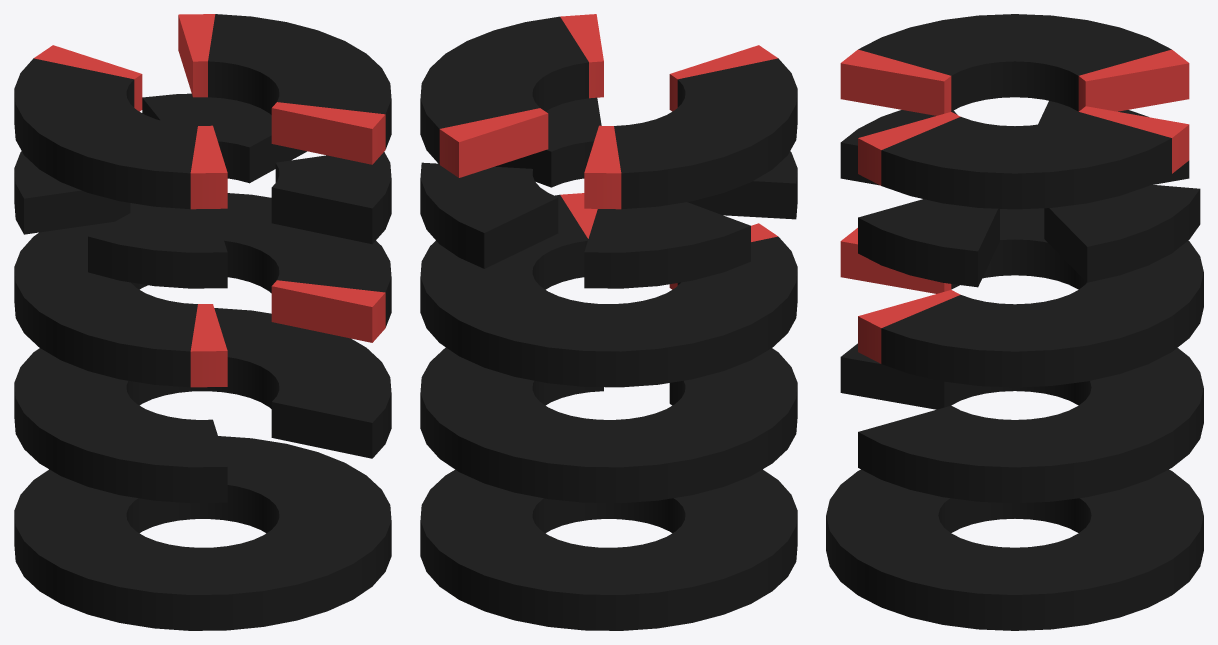
3 views of the same model, side by side, from view 1: azimuth 30°, elevation 25°; view 2: azimuth 150°, elevation 25°; view 3: azimuth 270°, elevation 25° (orthographic).
Visible parts, largest first — view 1: Circle, Circle.004, Circle.001, Circle.002, Circle.003; view 2: Circle, Circle.004, Circle.002, Circle.001, Circle.003; view 3: Circle.004, Circle, Circle.001, Circle.002, Circle.003.
Part boxes in pixels (bbox=[...]): Circle: bbox=[14, 436, 391, 630]; Circle.004: bbox=[14, 14, 391, 209]; Circle.001: bbox=[14, 308, 391, 503]; Circle.002: bbox=[14, 193, 391, 387]; Circle.003: bbox=[14, 93, 391, 288]; Circle: bbox=[420, 469, 797, 630]; Circle.004: bbox=[420, 14, 797, 209]; Circle.002: bbox=[420, 193, 797, 387]; Circle.001: bbox=[420, 347, 797, 503]; Circle.003: bbox=[420, 97, 797, 288]; Circle.004: bbox=[840, 14, 1189, 209]; Circle: bbox=[826, 469, 1203, 630]; Circle.001: bbox=[840, 343, 1203, 503]; Circle.002: bbox=[840, 208, 1203, 387]; Circle.003: bbox=[840, 101, 1200, 287].
Bounding box in the file's own units: 200 × 267 × 200.
